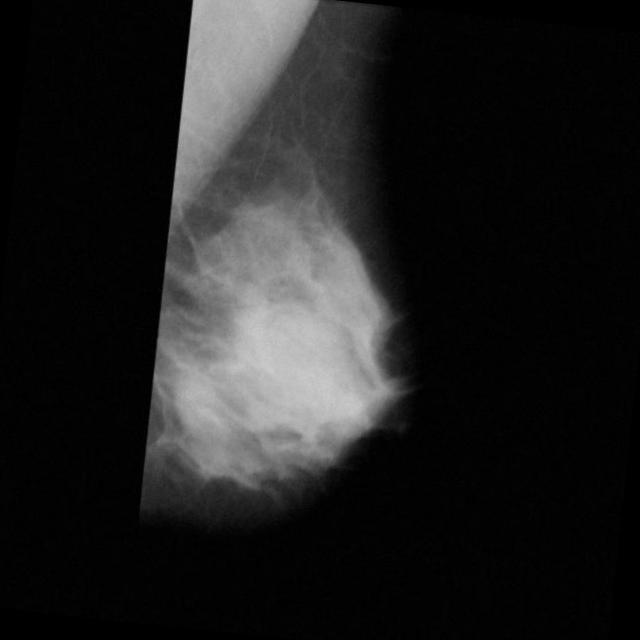CIRC: (164, 237, 436, 508)
